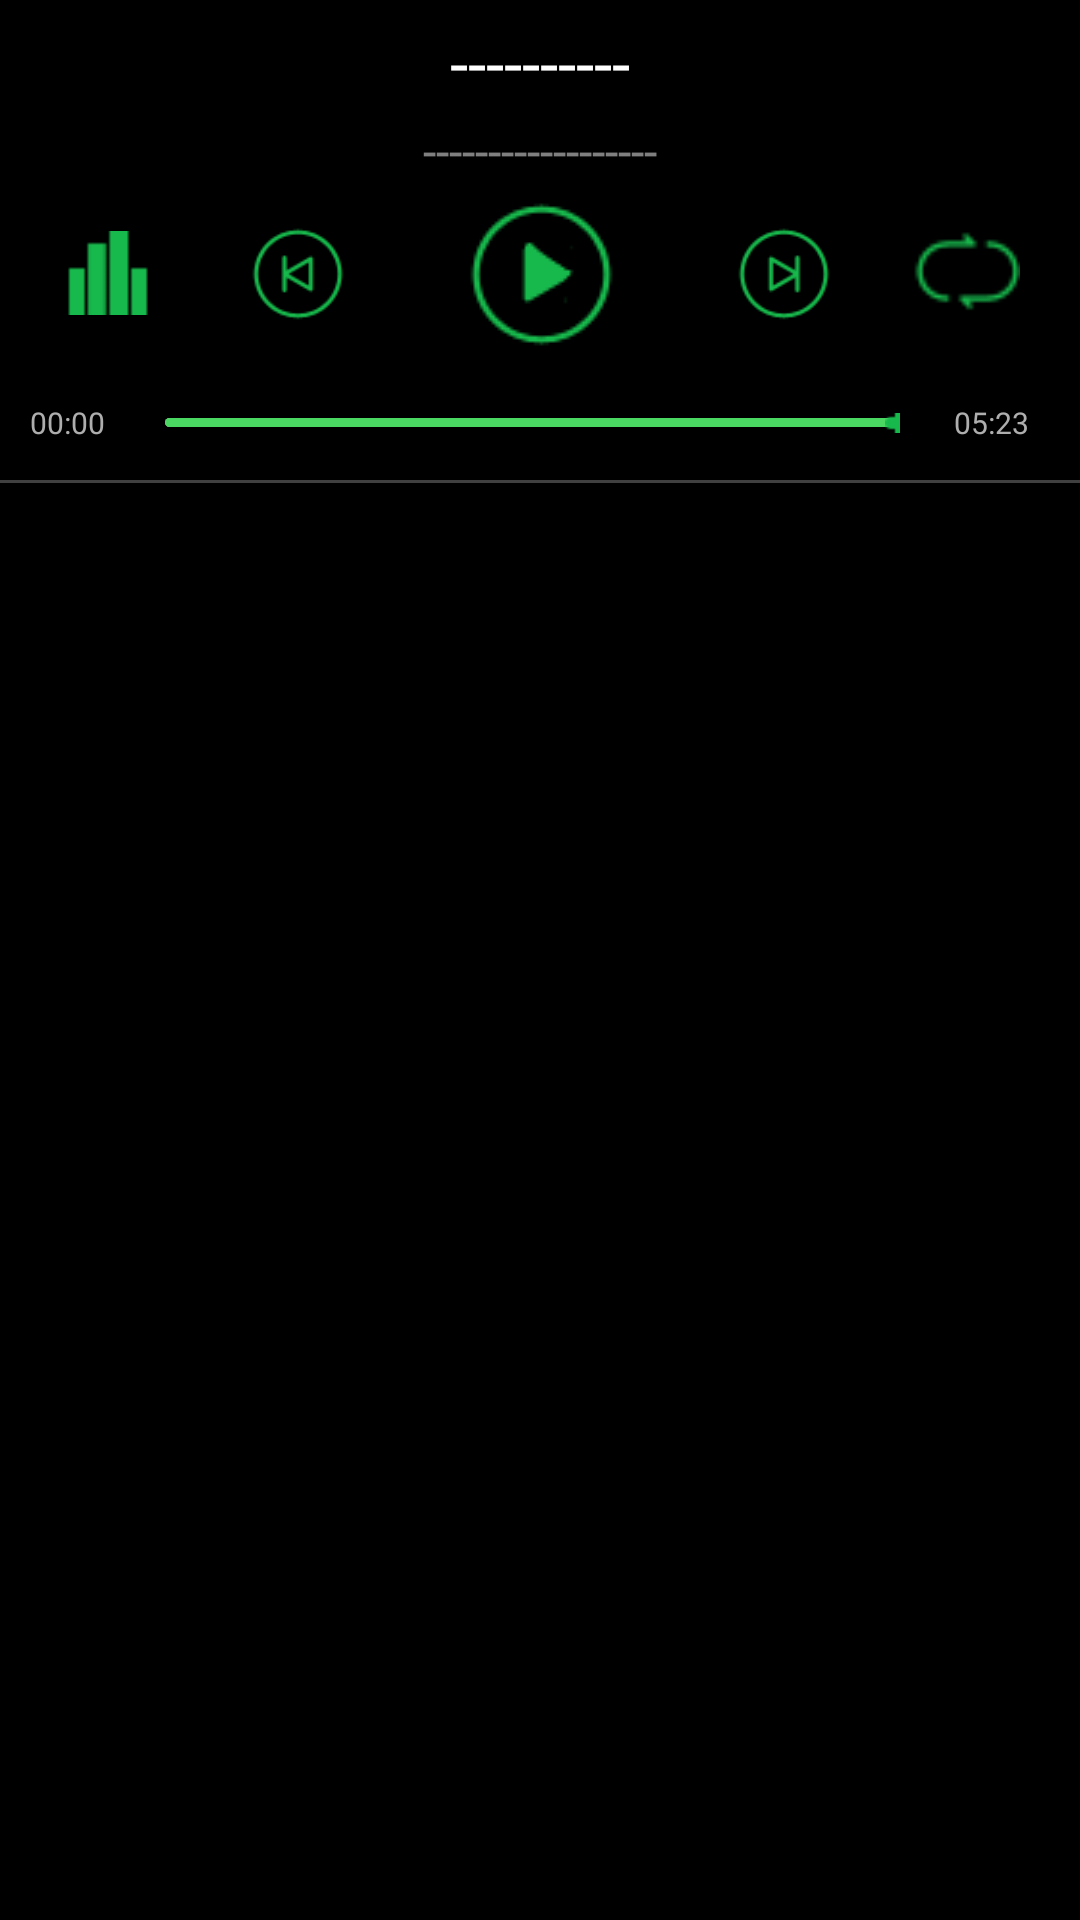

Screen size 1080 x 1920. Icon name, then its center in pixels as [x,y]:
play last: [298,274]
play next: [784,274]
playsequence: [967,271]
